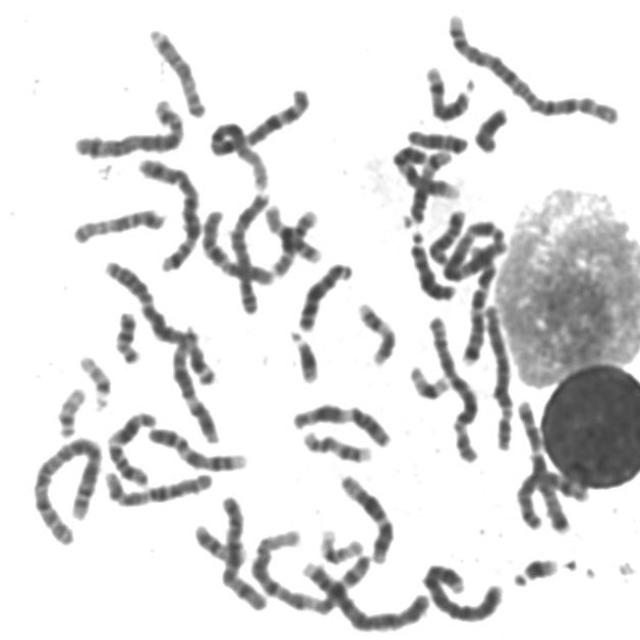A1: (202, 78, 314, 192), (245, 520, 372, 616)
A2: (440, 5, 622, 127), (25, 429, 106, 549)
A3: (96, 252, 222, 386), (436, 211, 508, 283)
B4: (294, 552, 431, 634), (415, 556, 507, 624)
B5: (130, 148, 206, 273), (66, 90, 187, 160)
C10: (194, 201, 278, 288), (96, 462, 216, 508)
C11: (285, 394, 395, 449), (100, 403, 160, 488)
C12: (167, 322, 223, 445), (333, 466, 396, 566)
C6: (422, 307, 484, 465), (477, 297, 517, 453)
C7: (510, 390, 573, 534), (454, 235, 499, 368)
C8: (225, 182, 282, 318), (515, 462, 594, 530)
C9: (140, 420, 250, 472), (386, 138, 462, 202)
D13: (291, 254, 356, 334), (403, 222, 460, 304)
D14: (397, 142, 454, 229), (418, 56, 474, 124)
D15: (142, 19, 208, 119), (65, 199, 168, 246)
E16: (262, 200, 322, 271), (266, 201, 320, 278)
E17: (350, 294, 399, 367), (296, 423, 375, 465)
E18: (423, 202, 469, 265), (401, 120, 471, 154)
F19: (402, 356, 454, 402), (313, 521, 367, 563)
F20: (187, 516, 248, 566), (108, 304, 143, 366)
G21: (282, 322, 321, 384), (504, 548, 562, 589)
G22: (71, 346, 113, 411), (51, 378, 88, 439)
X: (212, 489, 270, 613)
Y: (467, 99, 511, 154)
